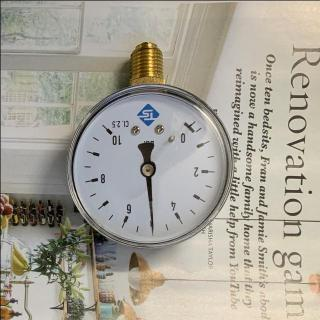gauge: (58, 80, 234, 254), (98, 117, 122, 147), (177, 113, 201, 140), (138, 161, 156, 177), (147, 224, 157, 236)
